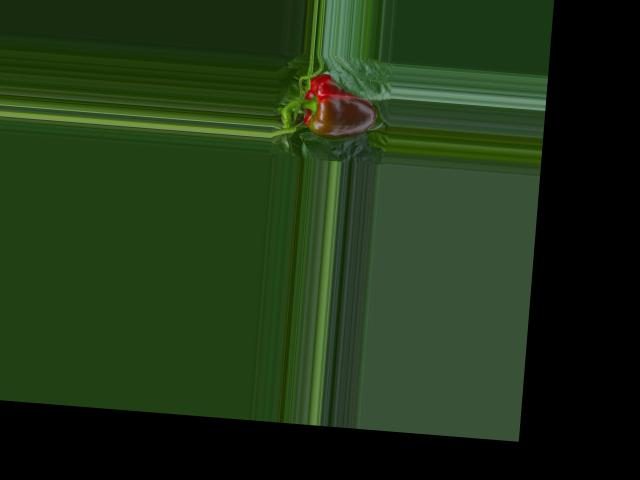bell_pepper: (291, 69, 384, 149)
